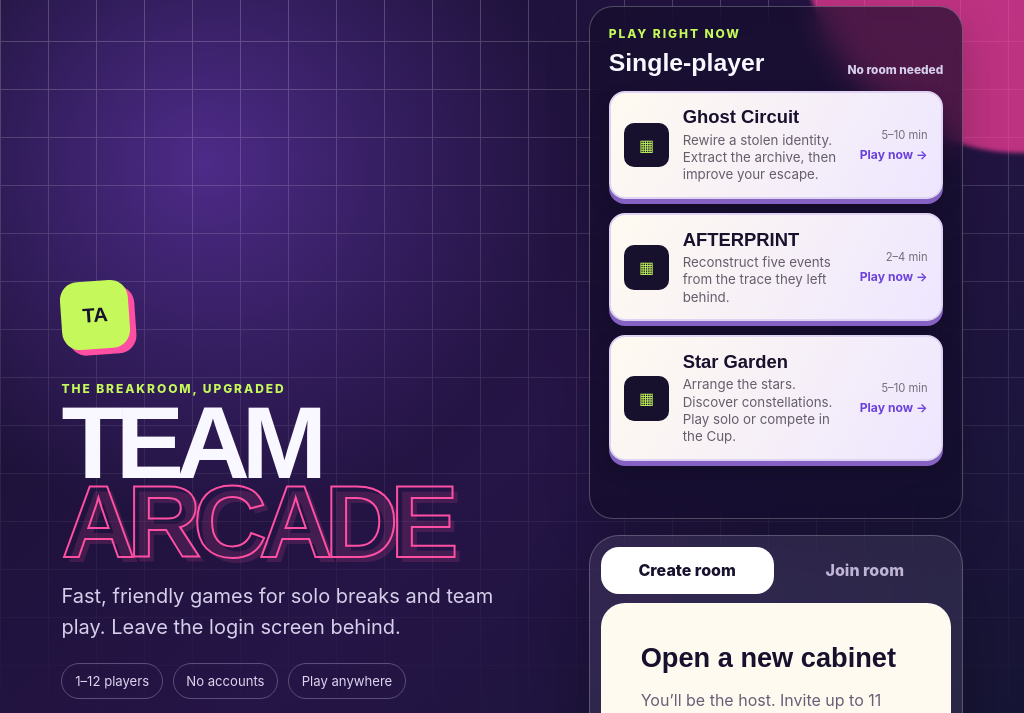
Scenario: App entry screen › offers accessible create and join flows
The width and height of the screenshot is (1024, 713).
Expected: the 2nd heading is shown, [61,404,518,561]
Expected: the heading "Single-player" is shown, [609,49,764,77]
Click the button "Join room" at (865, 570), box [778,547,951,594]
(page scrolled)
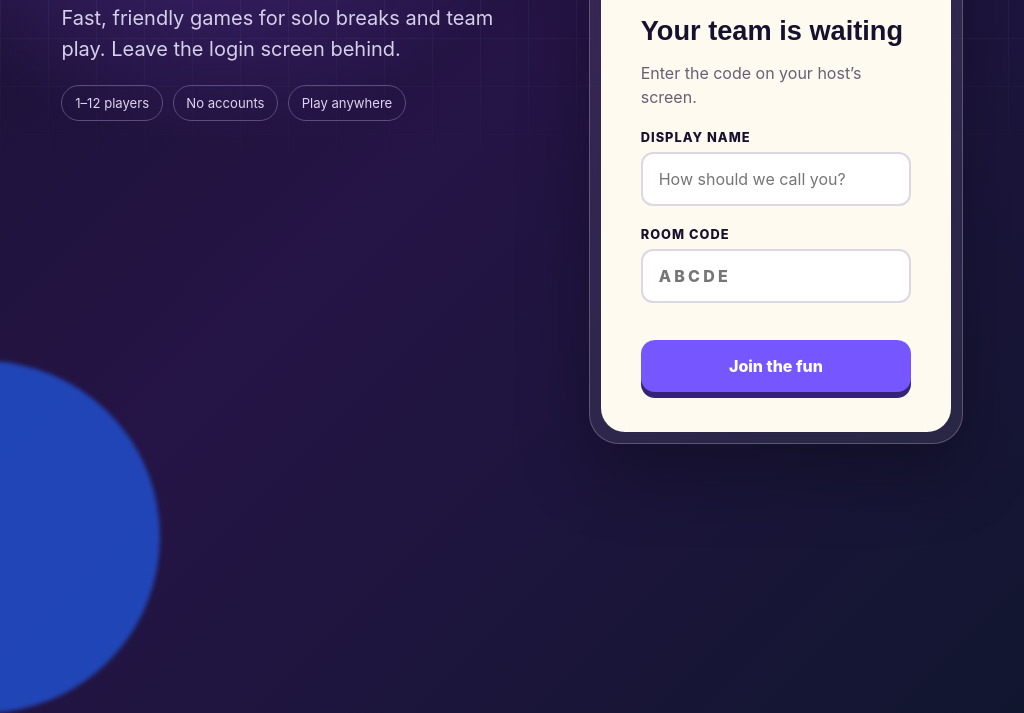
Expected: the field labelled "Room code" is shown, [641,249,911,304]
Expected: the button "Join the fun" is shown, [641,340,911,392]
